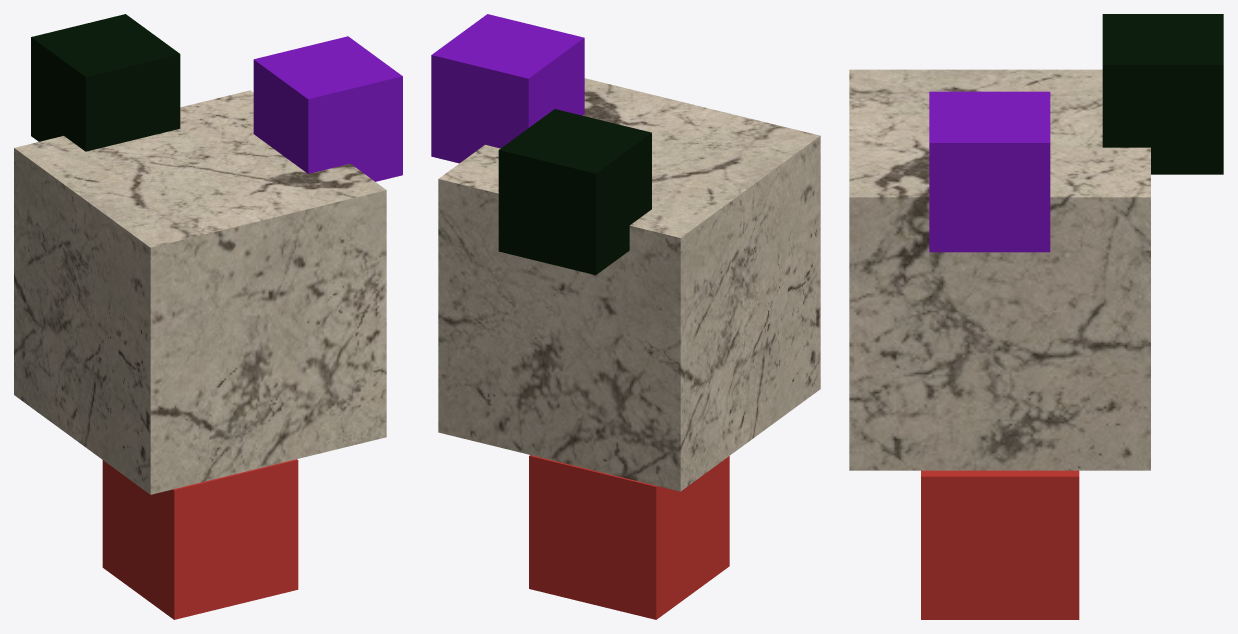
3 views of the same model, side by side, from view 1: azimuth 30°, elevation 25°; view 2: azimuth 150°, elevation 25°; view 3: azimuth 270°, elevation 25° (orthographic). The views are drawn at different scales.
Parts seen in each view (by area): view 1: Cube, Cube.under, Cube.001, Cube.002; view 2: Cube, Cube.under, Cube.002, Cube.001; view 3: Cube, Cube.under, Cube.001, Cube.002.
Boxes of the visible parts, <box> form: Cube: <box>14,90,386,494</box>; Cube.under: <box>102,459,298,619</box>; Cube.001: <box>253,36,402,181</box>; Cube.002: <box>31,14,180,151</box>; Cube: <box>438,78,820,491</box>; Cube.under: <box>529,455,729,619</box>; Cube.002: <box>498,109,651,275</box>; Cube.001: <box>431,14,584,163</box>; Cube: <box>849,69,1150,470</box>; Cube.under: <box>921,470,1079,619</box>; Cube.001: <box>929,91,1050,252</box>; Cube.002: <box>1102,14,1223,174</box>.
Bounding box in the file's own units: 2.44 × 3.92 × 2.48.
Materials: 4 (4 with a texture image).
